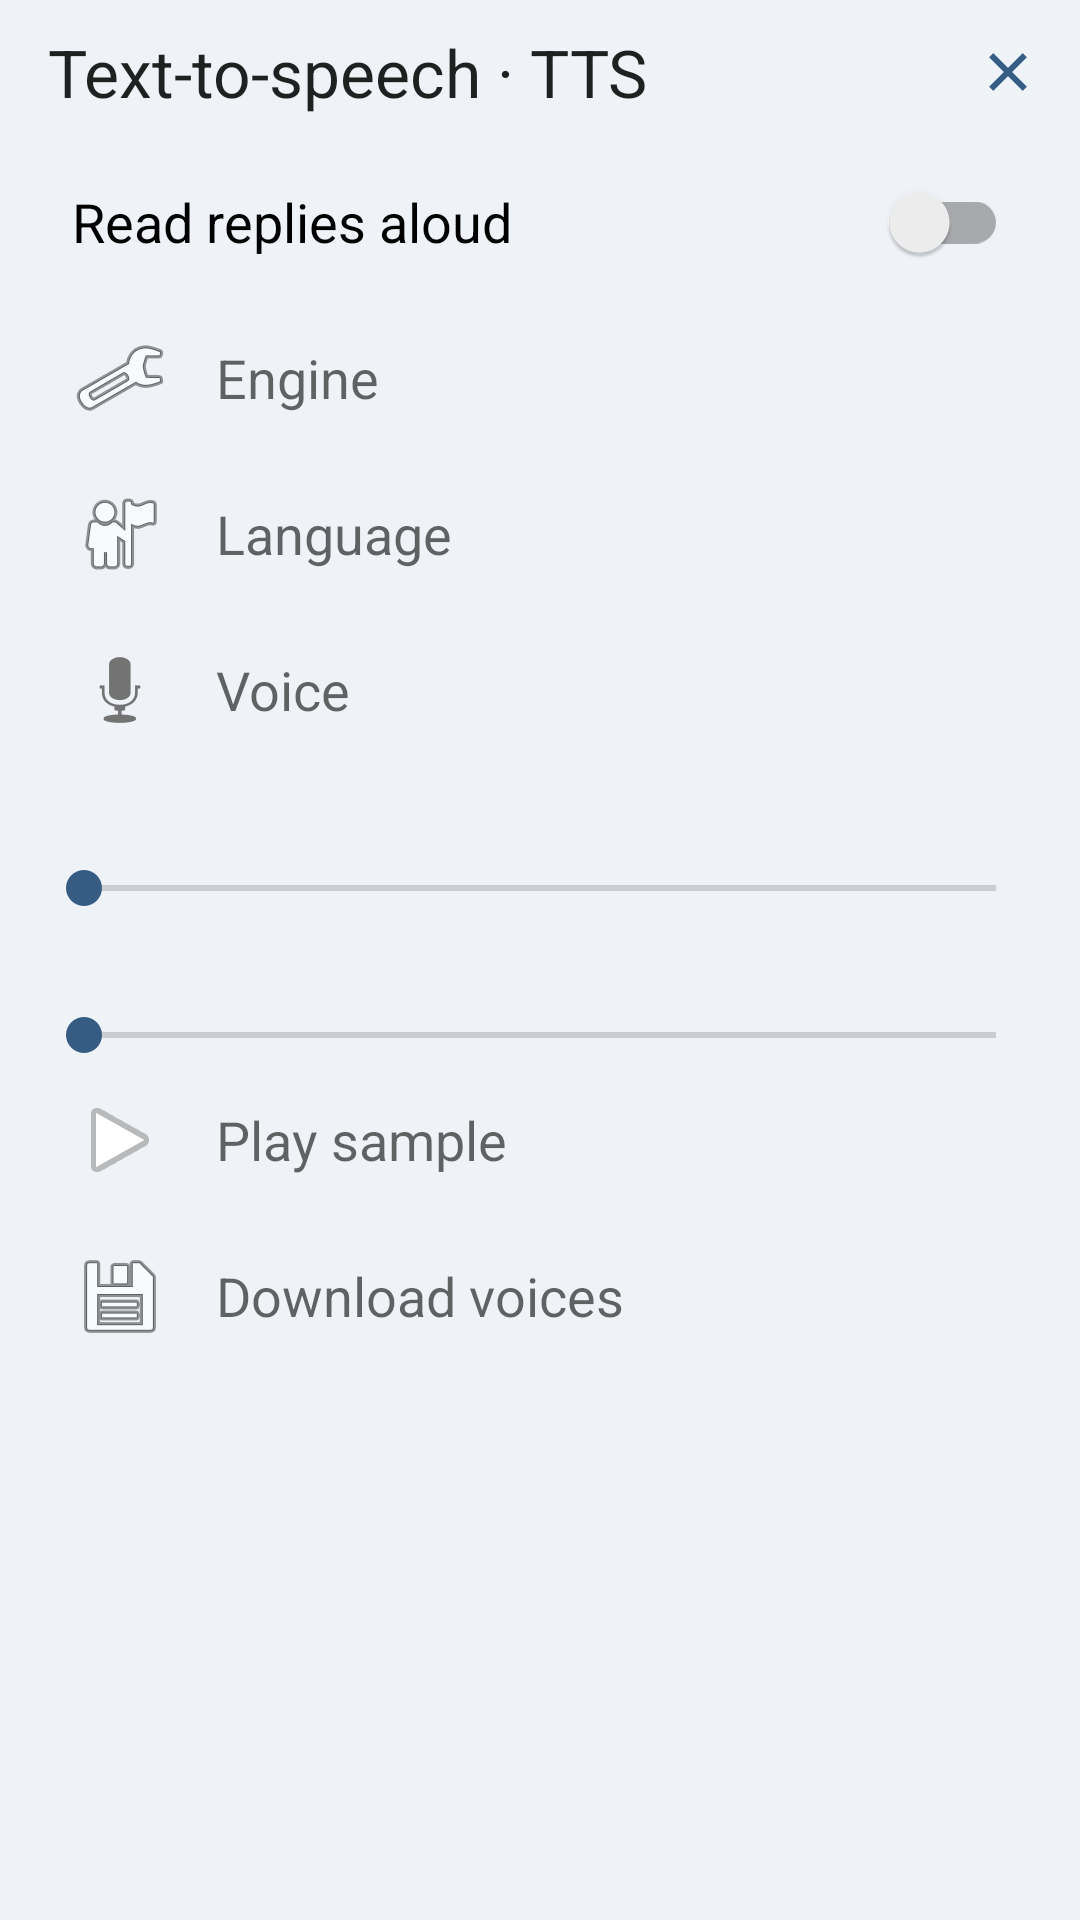

Where icons sit on this 1080x1920 app screen, as (x1, y1, x2, y2):
Back to settings: (989, 53, 1027, 91)
